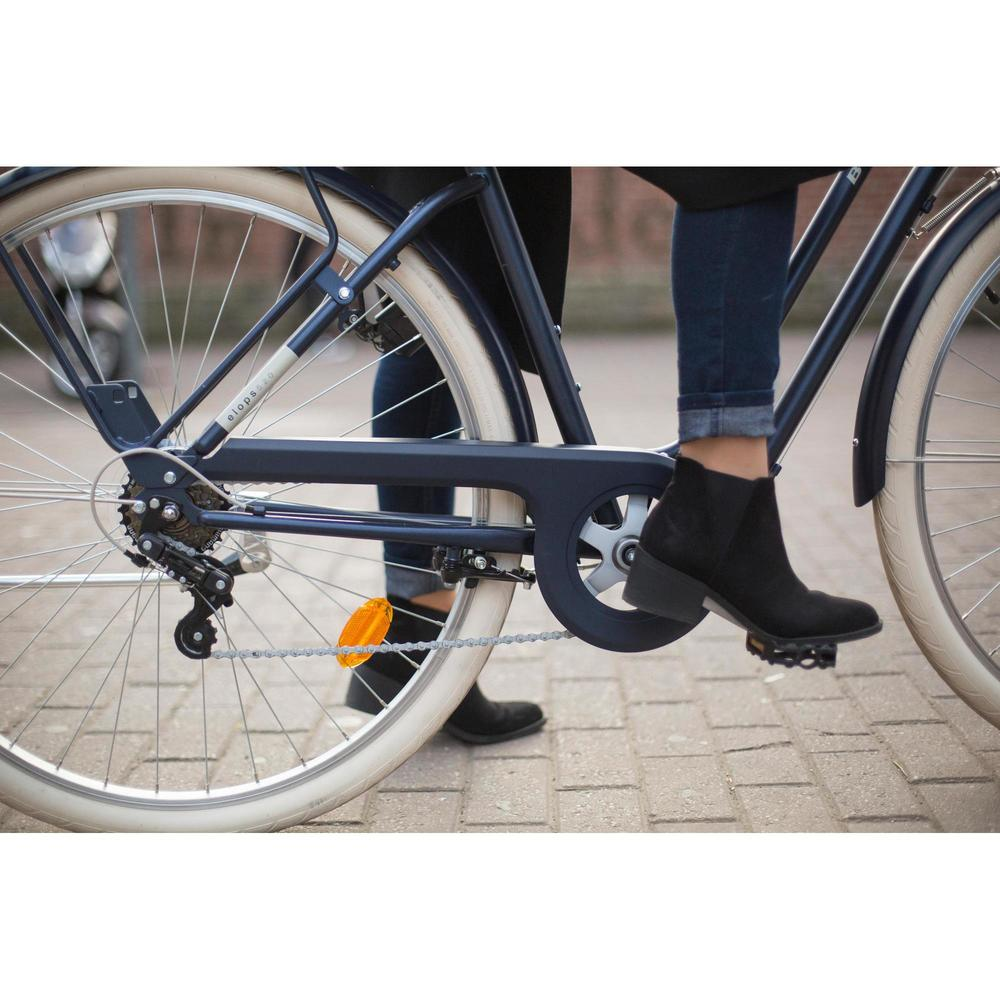UrbanBike: (0, 154, 1000, 831)
